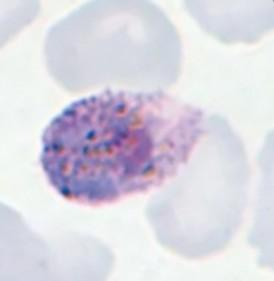Infected: (37, 90, 206, 205)
Uninfected: (145, 110, 250, 259), (44, 0, 184, 94)
